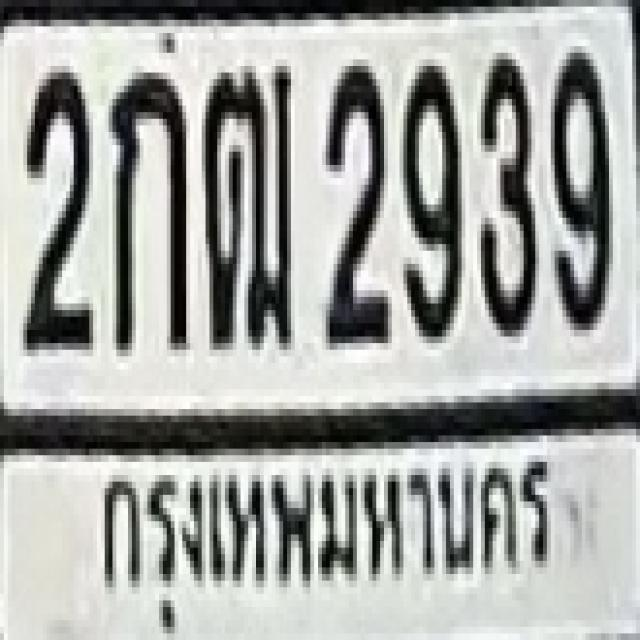-: (202, 59, 287, 343), (109, 66, 182, 343)
2: (20, 66, 90, 343), (320, 60, 386, 336)
3: (475, 53, 533, 330)
9: (547, 46, 609, 323), (400, 60, 458, 336)
BKK: (83, 453, 555, 628)
